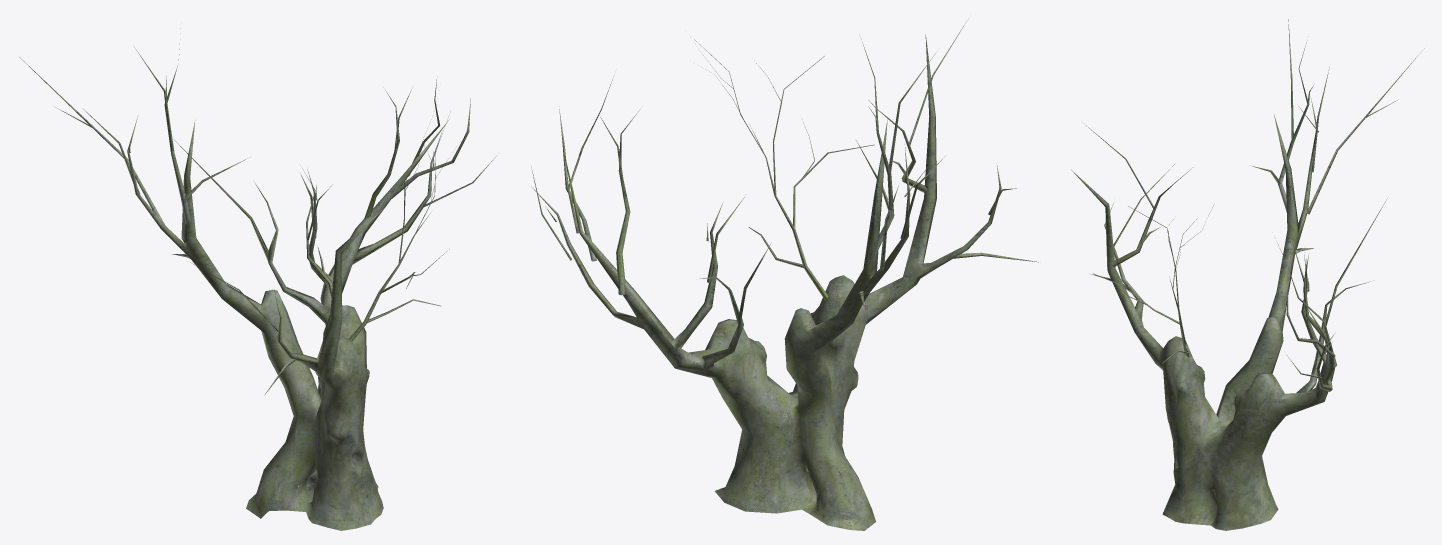
The model's file is Tree_Dry_1.obj.
3 views of the same model, side by side, from view 1: azimuth 30°, elevation 25°; view 2: azimuth 150°, elevation 25°; view 3: azimuth 270°, elevation 25° (orthographic). The views are drawn at different scales.
Visible parts, largest first — view 1: Tree_Dry_1, Tree_Dry_1_branches; view 2: Tree_Dry_1, Tree_Dry_1_branches; view 3: Tree_Dry_1, Tree_Dry_1_branches.
Part boxes in pixels (box(x1,y1,x2,y2)): Tree_Dry_1: box(127, 115, 449, 530); Tree_Dry_1_branches: box(19, 28, 498, 395); Tree_Dry_1: box(531, 34, 1001, 530); Tree_Dry_1_branches: box(531, 20, 1038, 306); Tree_Dry_1: box(1071, 98, 1387, 530); Tree_Dry_1_branches: box(1086, 19, 1424, 378).
Size of the model in its own units: 9247 by 10390 by 7748.
2 materials, 2 textured.
